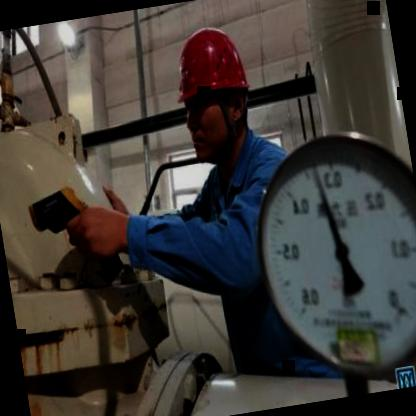helmet: (160, 14, 266, 172)
